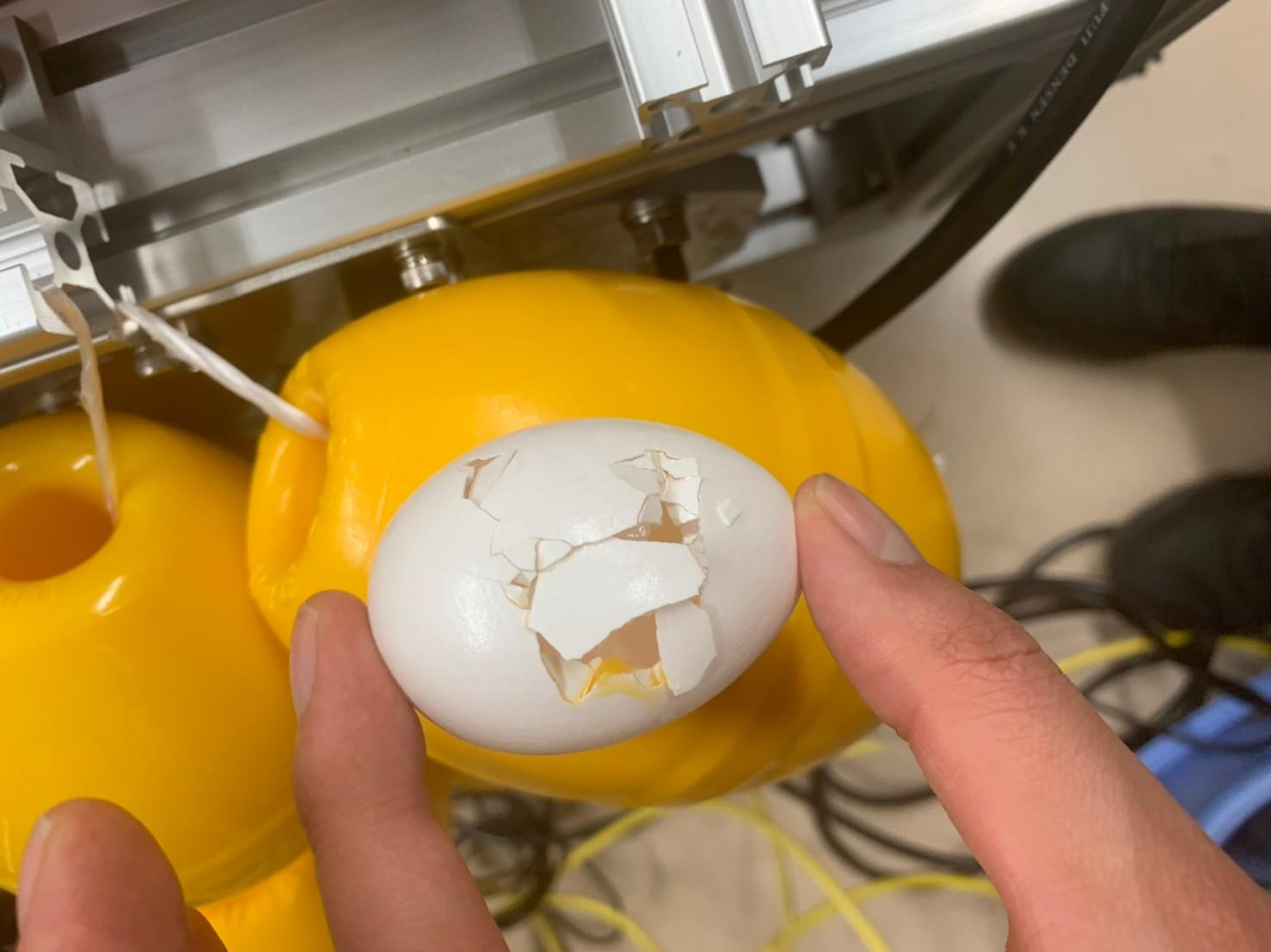egg: (365, 411, 790, 757)
